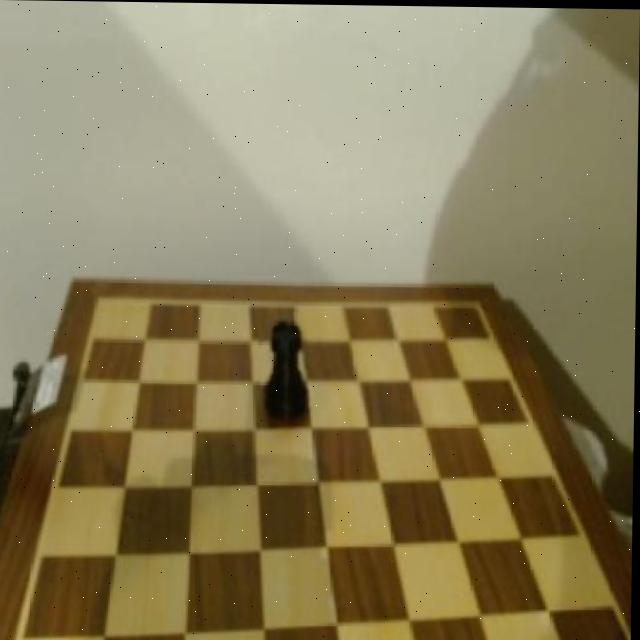black-queen: (258, 311, 310, 427)
